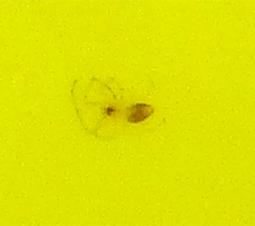Araneae: (68, 73, 155, 141)
